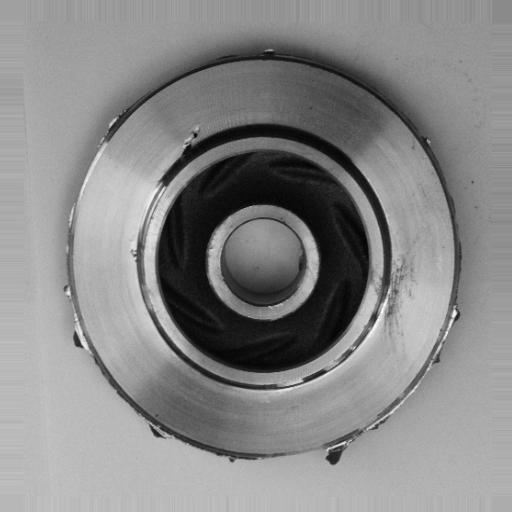casting_with_burr: (60, 46, 469, 471)
crack: (164, 119, 213, 182), (124, 216, 157, 274)
scratch: (263, 368, 314, 401)
stain: (370, 251, 426, 362)
